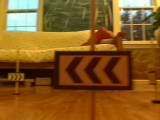left: (56, 52, 131, 89)
right: (7, 73, 24, 81)
